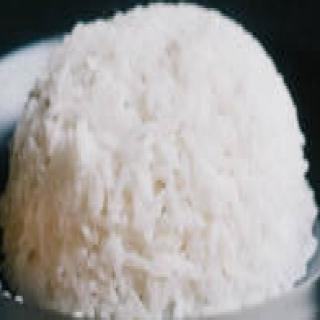rice: (0, 2, 320, 320)
